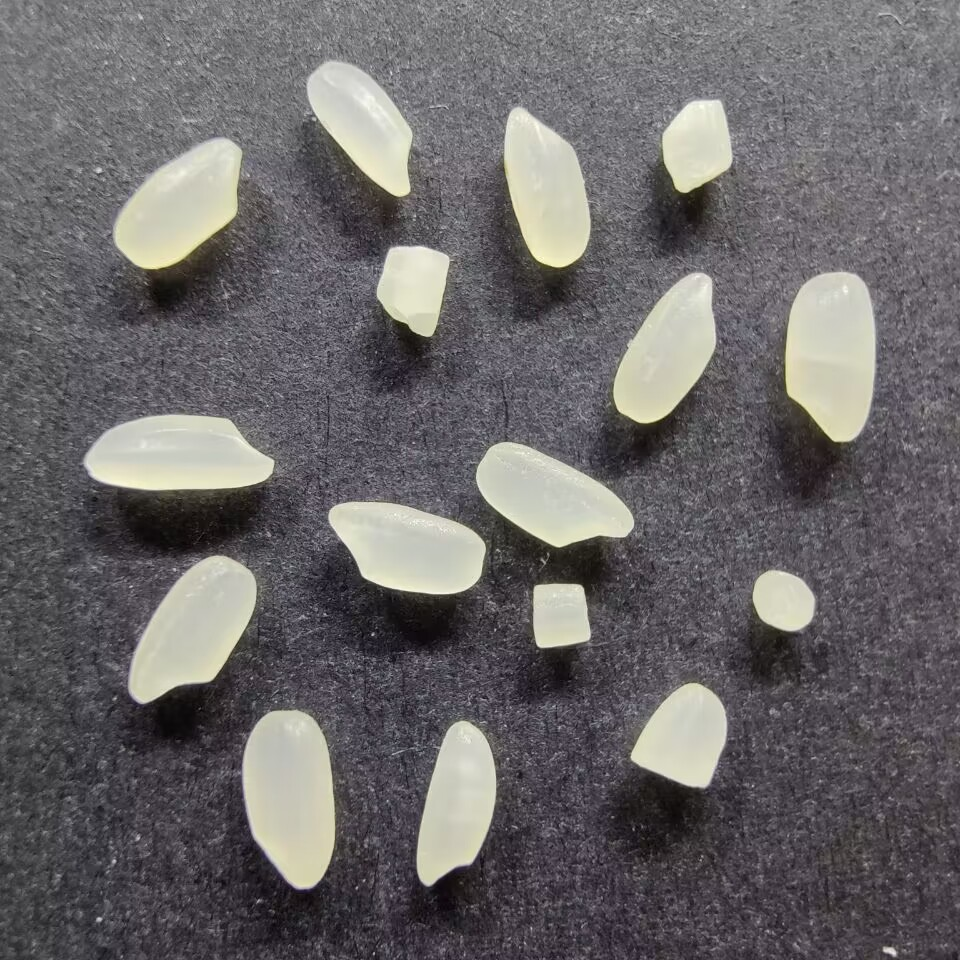broken: (628, 681, 729, 790), (659, 97, 735, 194), (373, 243, 451, 337), (529, 580, 594, 649), (752, 567, 817, 634)
rice: (126, 554, 257, 705), (110, 135, 244, 270), (473, 439, 636, 548), (240, 708, 336, 891), (609, 269, 718, 424), (782, 270, 877, 443), (81, 412, 276, 494), (304, 58, 415, 198), (326, 500, 486, 596), (500, 104, 592, 267), (413, 719, 496, 889)
